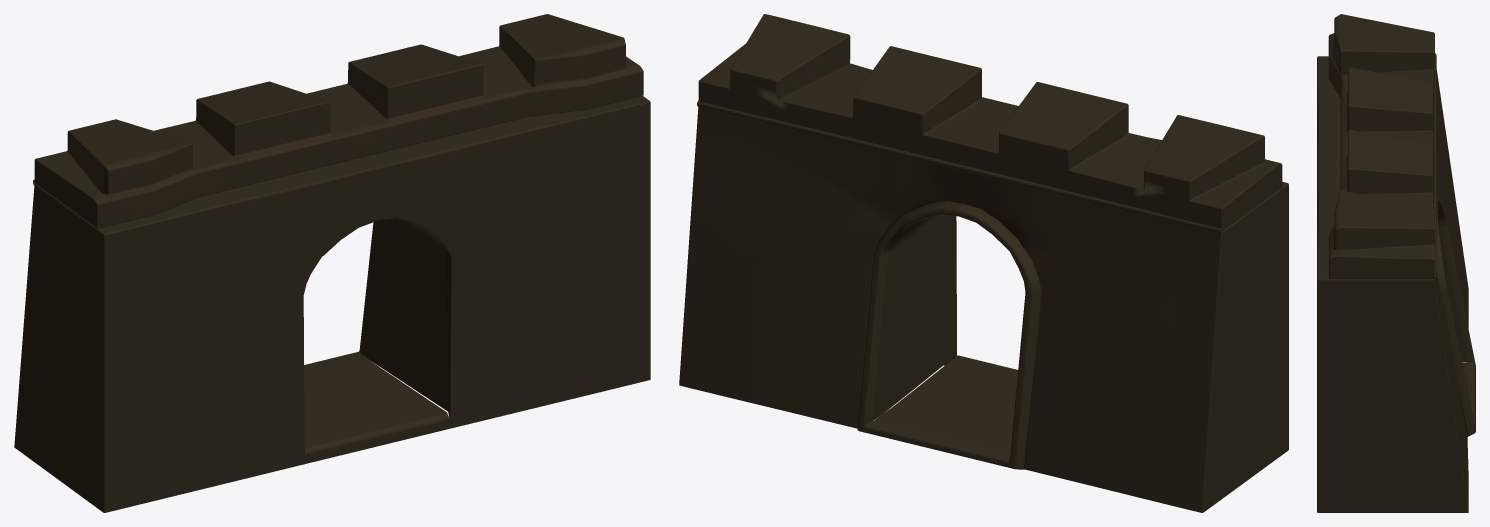
Rendered from fort_wall_door1t_copy3331.fbx.
3 renders of one model, left to right at view 1: azimuth 30°, elevation 25°; view 2: azimuth 150°, elevation 25°; view 3: azimuth 270°, elevation 25°, orthographic. The views are drawn at different scales.
Visible parts, largest first — view 1: fort_wall_door1t; view 2: fort_wall_door1t; view 3: fort_wall_door1t.
Boxes of the visible parts, bbox=[...] form: fort_wall_door1t: bbox=[14, 14, 650, 512]; fort_wall_door1t: bbox=[679, 14, 1288, 512]; fort_wall_door1t: bbox=[1317, 14, 1475, 512].
Size of the model in its own units: 300 by 177 by 89.95.
